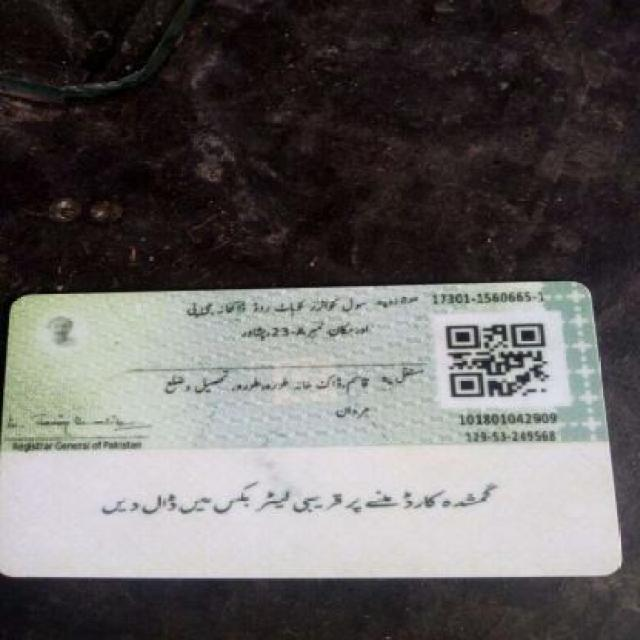Back: (16, 283, 618, 575)
